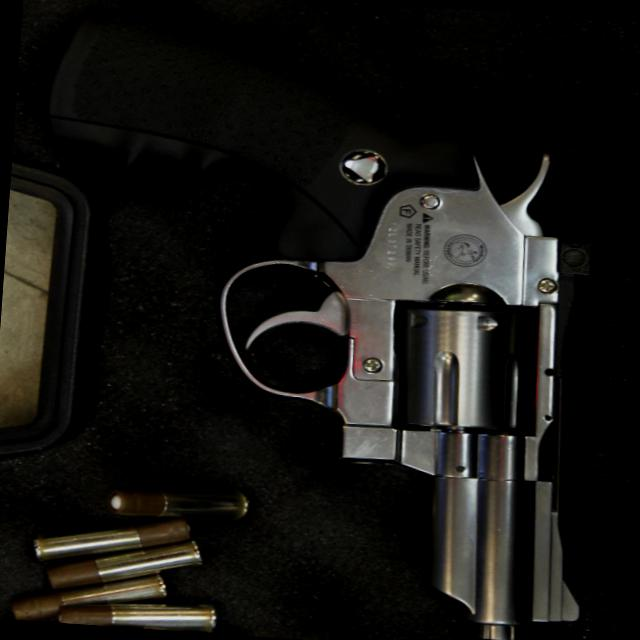handgun: (13, 0, 619, 639)
